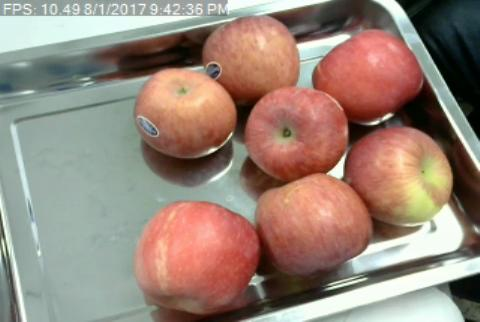apple: (133, 199, 260, 315), (255, 175, 372, 274), (344, 125, 452, 227), (312, 30, 424, 125), (244, 89, 349, 181), (133, 67, 237, 157), (202, 15, 300, 93)
